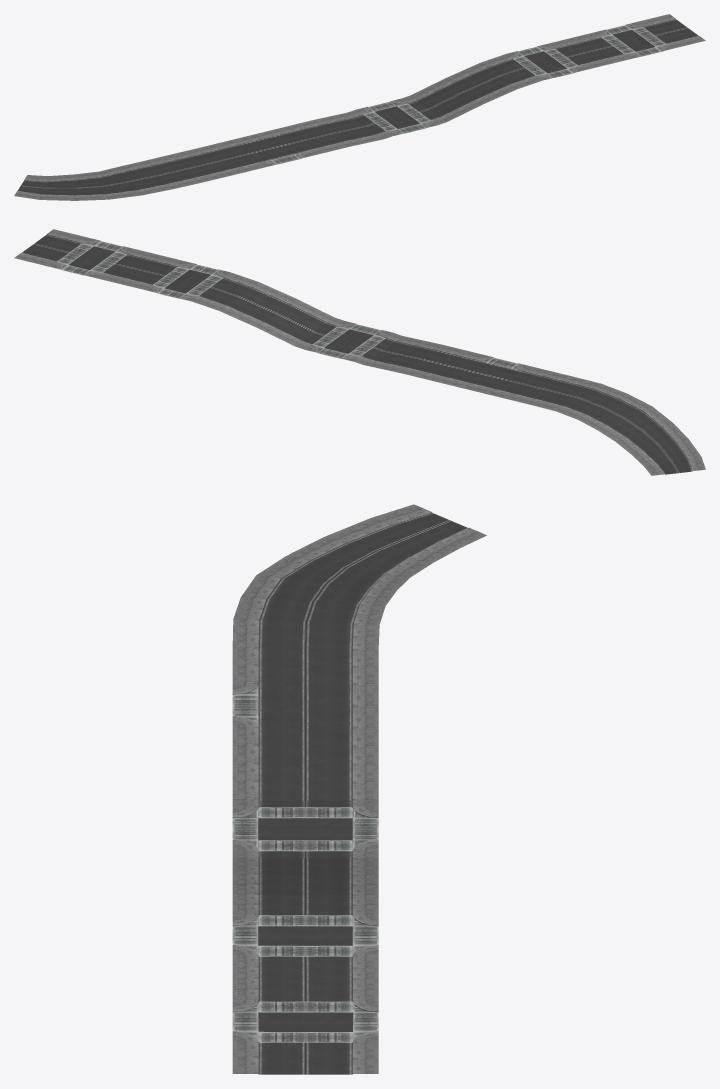
The model's file is roadssfse02.obj.
3 renders of one model, top to bottom at view 1: azimuth 30°, elevation 25°; view 2: azimuth 150°, elevation 25°; view 3: azimuth 270°, elevation 25°, orthographic. The views are drawn at different scales.
Visible parts, largest first — view 1: roadsSFSE02; view 2: roadsSFSE02; view 3: roadsSFSE02.
Boxes of the visible parts, left/top/right/bottom form: roadsSFSE02: left=14, top=14, right=705, bottom=200; roadsSFSE02: left=14, top=229, right=705, bottom=475; roadsSFSE02: left=232, top=504, right=486, bottom=1074.
Size of the model in its own units: 288 by 13.24 by 49.07.
Materials: 3 (3 with a texture image).
